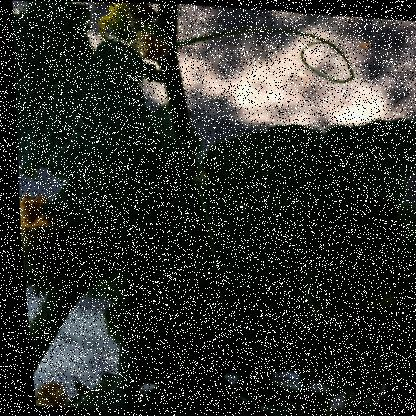Normal: (22, 107, 415, 401)
